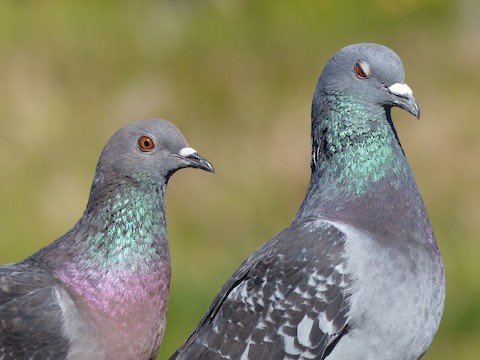pigeon: (138, 41, 450, 360), (4, 116, 220, 354)
